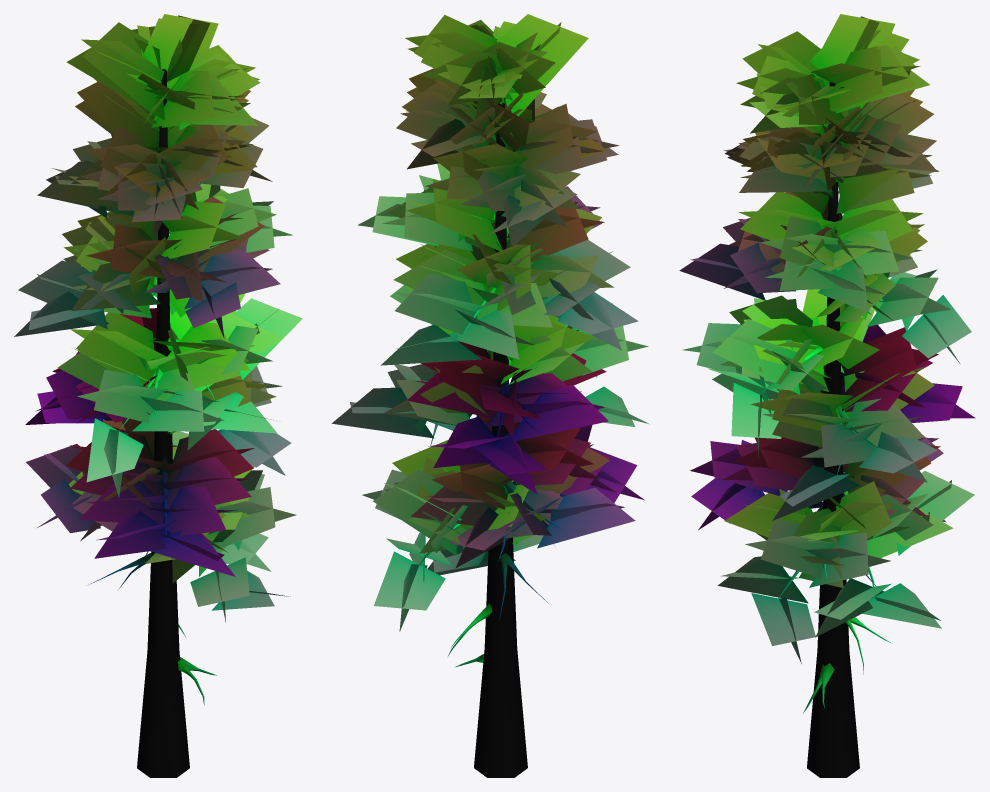
The model's file is M_Pine_1_5.fbx.
3 views of the same model, side by side, from view 1: azimuth 30°, elevation 25°; view 2: azimuth 150°, elevation 25°; view 3: azimuth 270°, elevation 25° (orthographic).
Parts seen in each view (by area): view 1: Tree_5; view 2: Tree_5; view 3: Tree_5.
Boxes of the visible parts, box(x1,y1,x2,y2) form: Tree_5: box(14, 14, 302, 777); Tree_5: box(332, 14, 649, 777); Tree_5: box(679, 14, 975, 777).
Size of the model in its own units: 1211 by 3290 by 1204.
